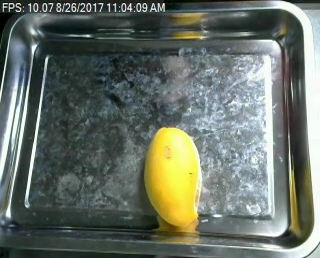Mango: (145, 127, 210, 220)
